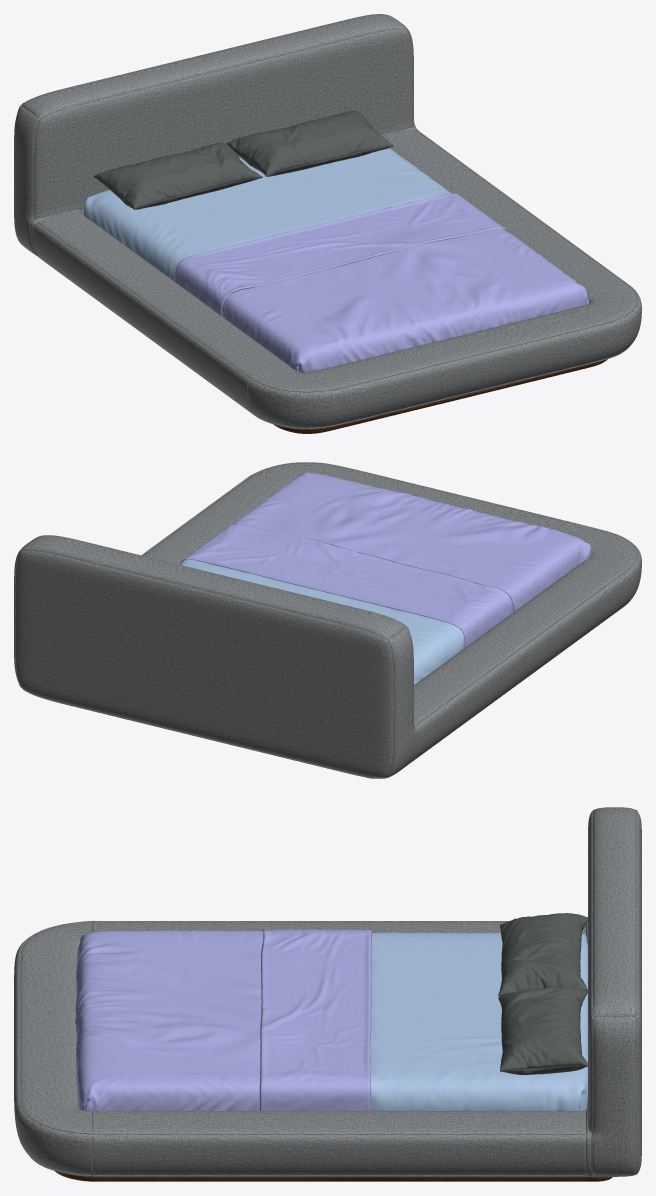
Rendered from bed_01.glb.
3 views of the same model, one above another, from view 1: azimuth 30°, elevation 25°; view 2: azimuth 150°, elevation 25°; view 3: azimuth 270°, elevation 25° (orthographic). The views are drawn at different scales.
Visible parts, largest first — view 1: bed, blanket, mattres, pillow, piping, wood frame; view 2: bed, blanket, mattres, piping; view 3: bed, blanket, mattres, pillow, piping, wood frame.
Part boxes in pixels (x1,y1,x2,y2): bed: (14, 14, 641, 429); blanket: (174, 193, 588, 372); mattres: (82, 148, 451, 281); pillow: (93, 110, 393, 209); piping: (17, 20, 637, 428); wood frame: (273, 359, 607, 433); bed: (14, 462, 641, 778); blanket: (180, 472, 591, 647); mattres: (180, 559, 464, 684); piping: (14, 462, 637, 778); bed: (14, 807, 641, 1176); blanket: (75, 929, 372, 1110); mattres: (370, 932, 587, 1110); pillow: (498, 913, 587, 1075); piping: (19, 810, 637, 1176); wood frame: (55, 1171, 612, 1181).
Size of the model in its own units: 2.09 by 0.8376 by 2.54.
5 materials, 2 textured.
